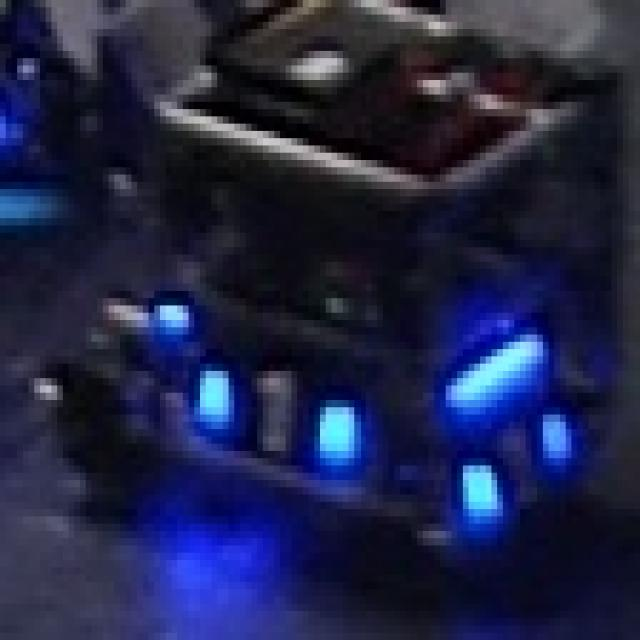B1: (189, 356, 354, 473), (457, 407, 572, 531)
